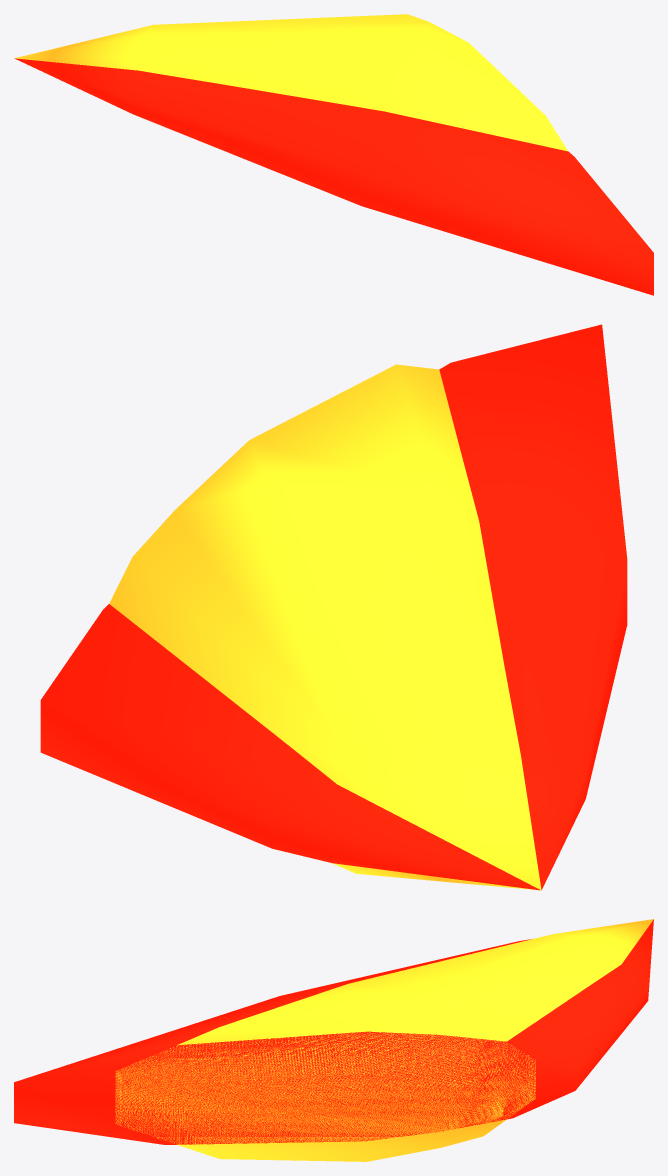
The model's file is newshj-17-f2.glb.
3 renders of one model, top to bottom at view 1: azimuth 30°, elevation 25°; view 2: azimuth 150°, elevation 25°; view 3: azimuth 270°, elevation 25°, orthographic. The views are drawn at different scales.
Visible parts, largest first — view 1: newshj-17-flame-short; view 2: newshj-17-flame-short; view 3: newshj-17-flame-short.
Boxes of the visible parts, bbox=[...] form: newshj-17-flame-short: bbox=[14, 14, 653, 295]; newshj-17-flame-short: bbox=[40, 324, 627, 890]; newshj-17-flame-short: bbox=[14, 919, 653, 1161].
Bounding box in the file's own units: 0.3167 × 0.1578 × 0.6058.
